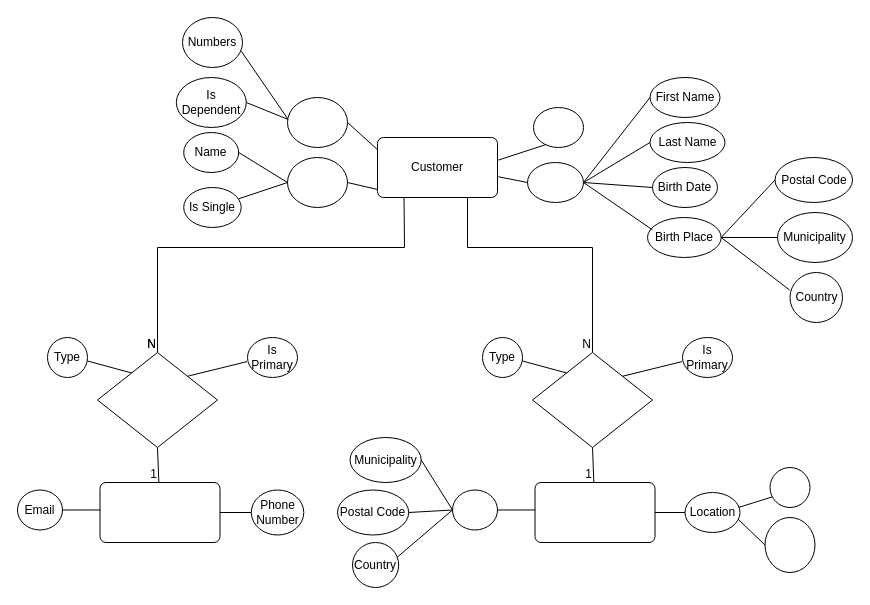
Image size: 870x605. Some labels were removed from this diagram. Here are the shapes that lost their labels. From the top down, the box of each, then its label:
(286, 96, 348, 148): Children
(532, 106, 584, 148): Code
(286, 156, 348, 208): Marital Status
(526, 162, 584, 202): Registry
(96, 352, 218, 448): Owns
(532, 352, 652, 448): Resides
(769, 466, 810, 508): Street
(99, 482, 220, 542): Delivery
(452, 489, 498, 530): Place
(534, 482, 655, 542): Address
(764, 516, 815, 572): House Number
